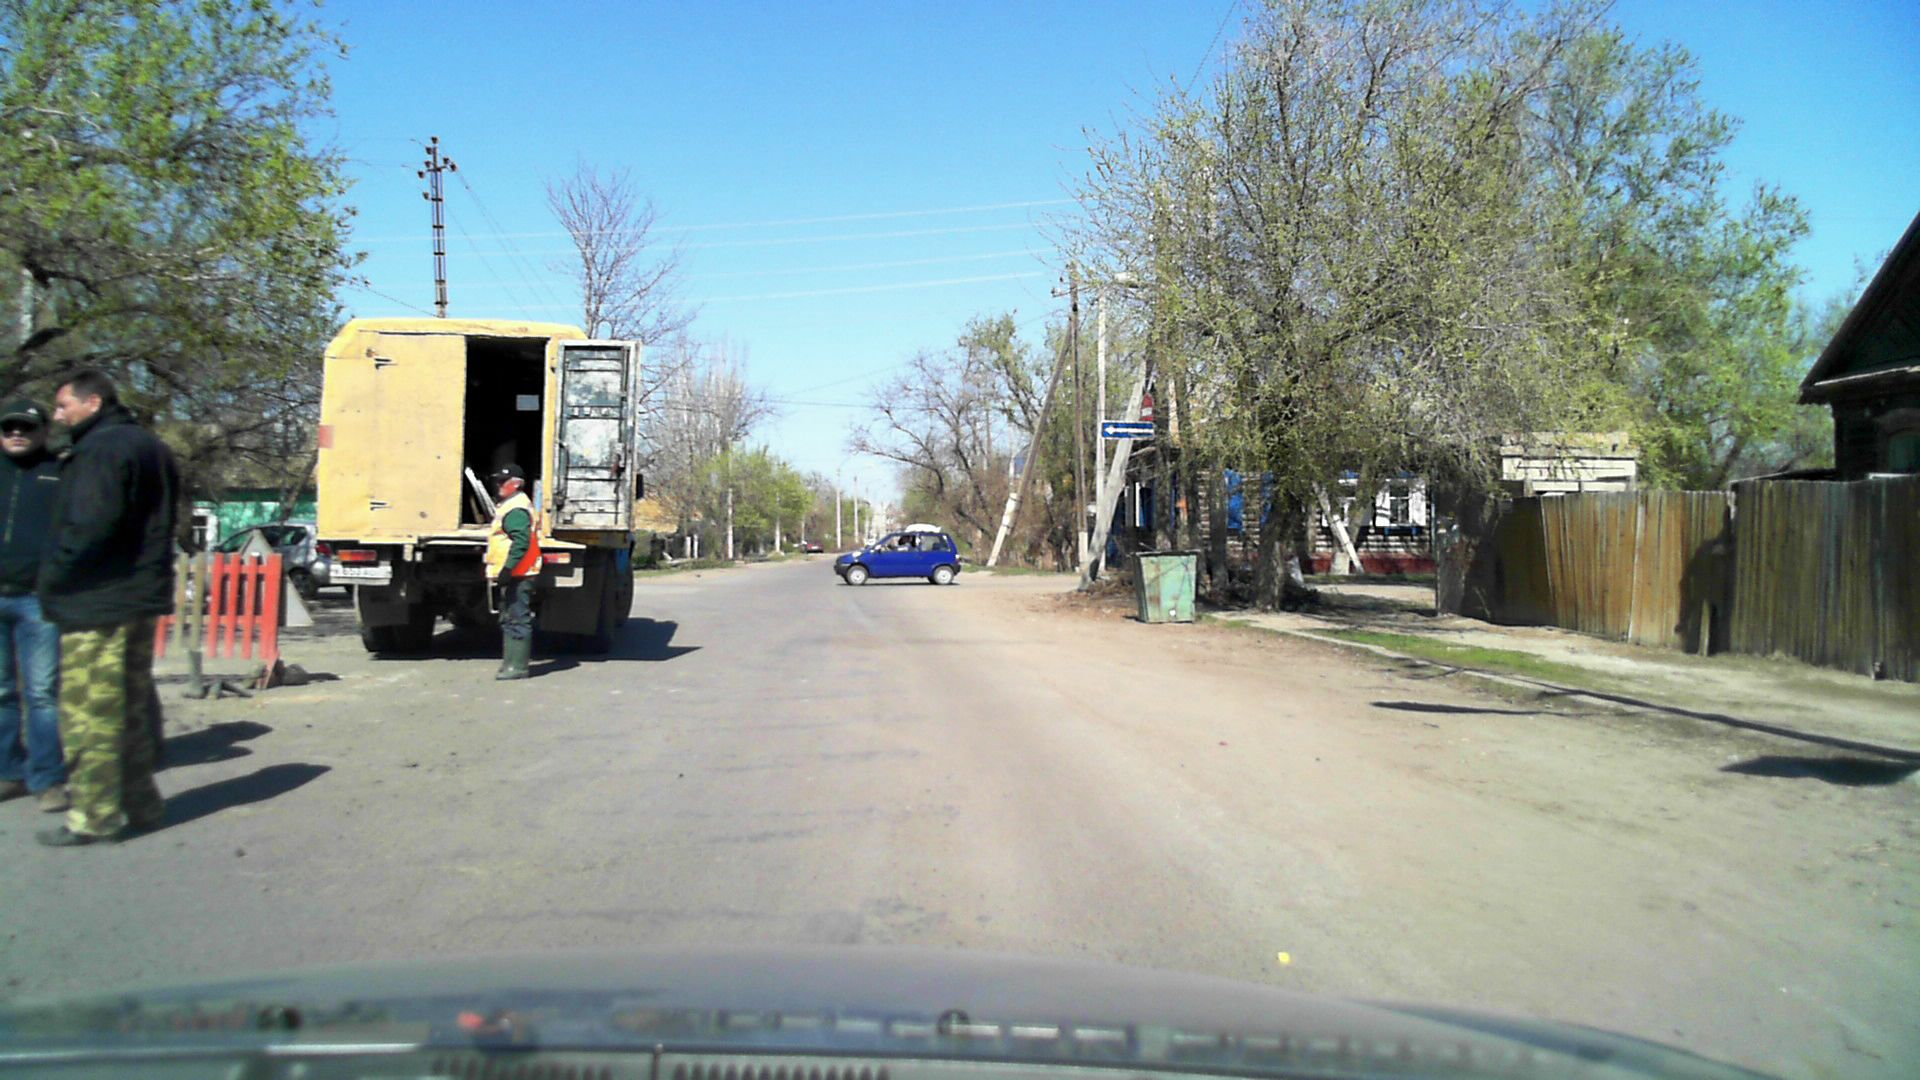One-Way Traffic: (1100, 421, 1154, 438)
